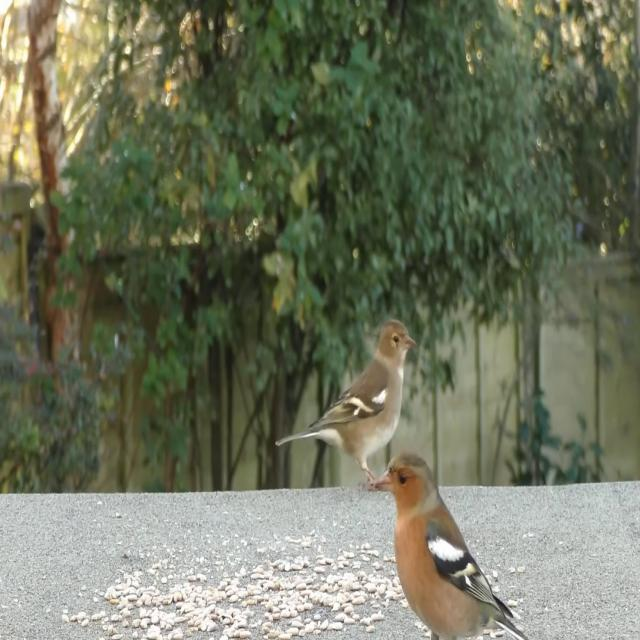beak: (369, 463, 393, 496), (402, 327, 419, 360)
bird: (366, 447, 528, 640), (274, 316, 419, 492)
